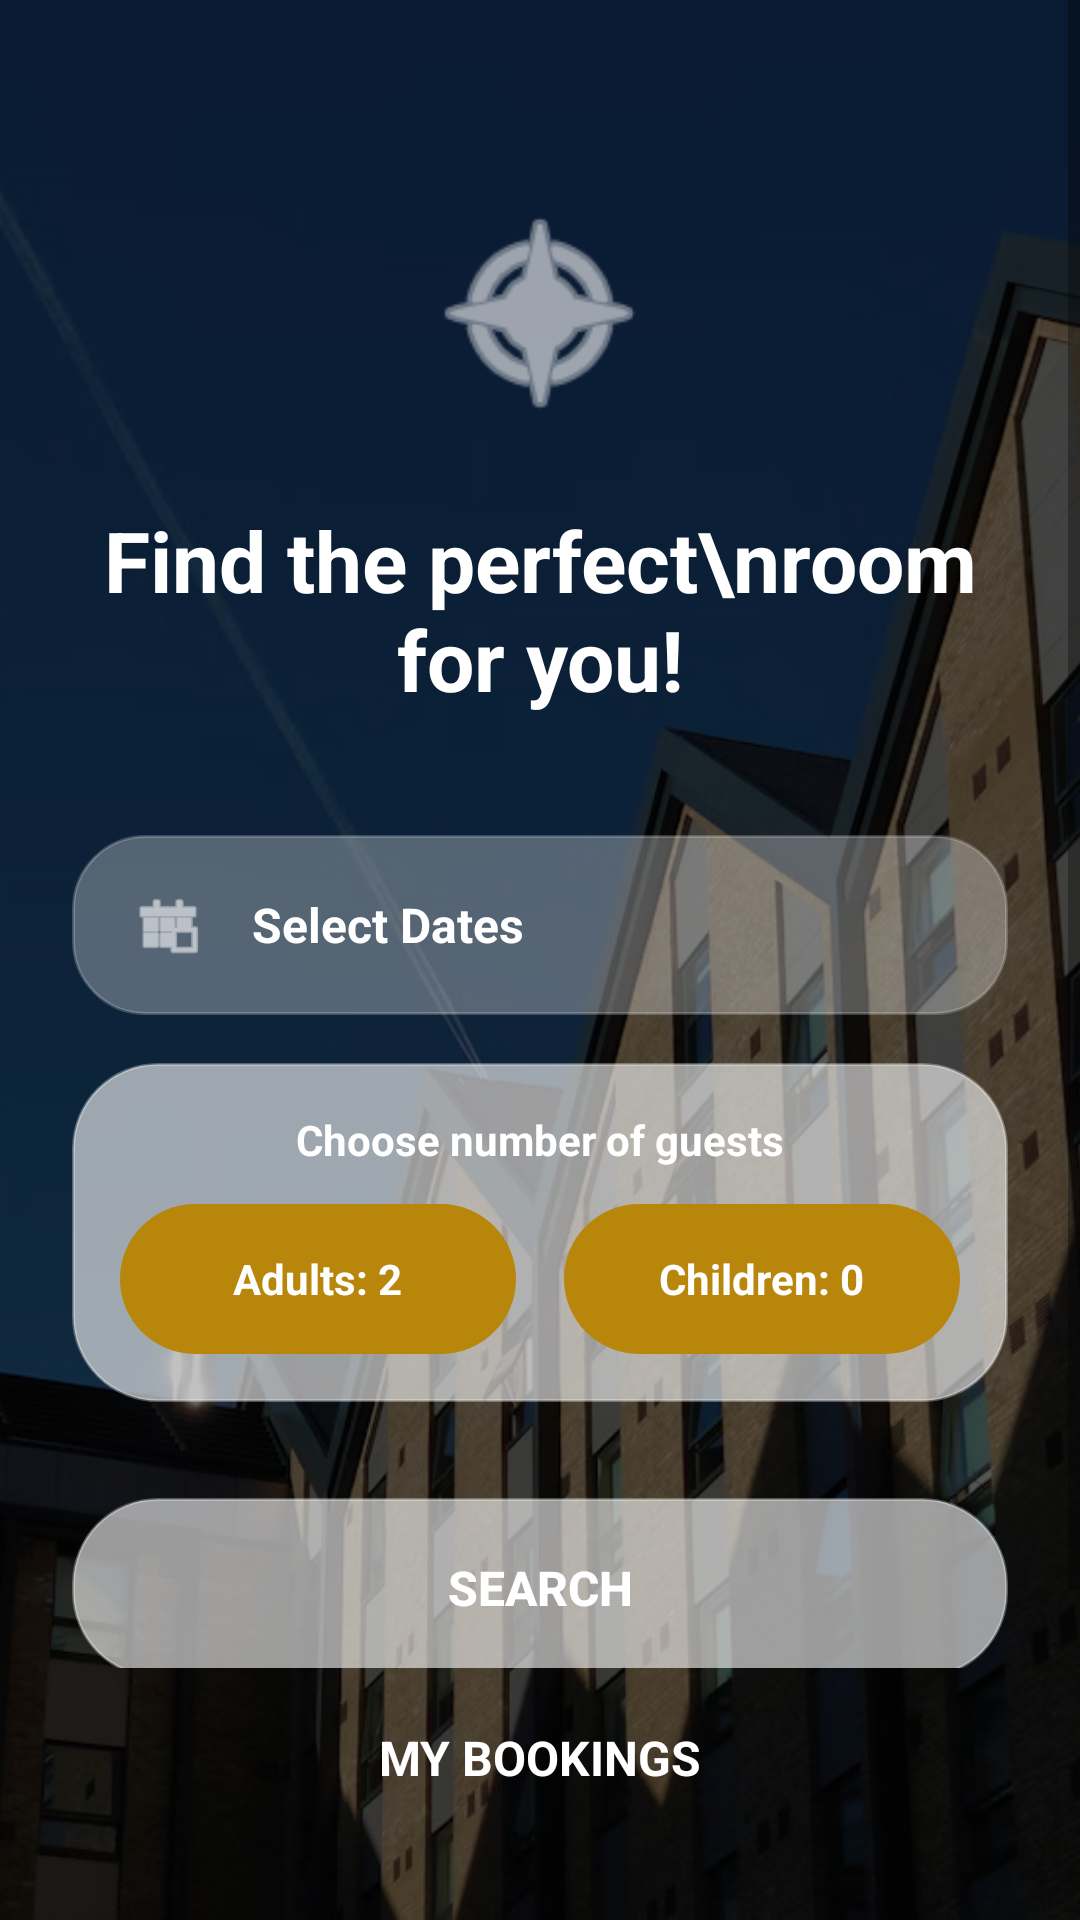

Icons on this 1080x1920 Android screen, each with the point to tap as point (x, y):
compass: point (539, 313)
today: point (168, 926)
